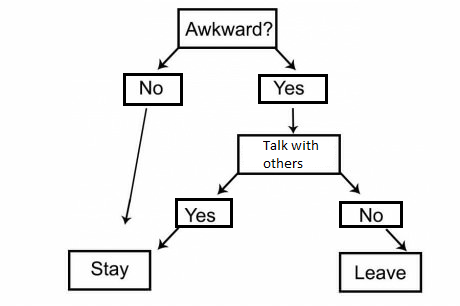arrow: (119, 107, 149, 226), (269, 47, 298, 74), (334, 170, 362, 197), (155, 47, 181, 76), (155, 225, 184, 251), (382, 226, 408, 255), (215, 173, 238, 198), (286, 103, 298, 133)
process: (174, 5, 280, 51), (235, 132, 343, 177), (65, 247, 153, 294), (337, 249, 424, 296), (255, 71, 330, 106), (121, 71, 185, 109), (171, 196, 235, 230), (337, 199, 405, 230)
text: (260, 138, 321, 170), (183, 19, 274, 39), (352, 263, 408, 282), (87, 259, 130, 280), (270, 78, 305, 98), (183, 205, 217, 224), (136, 78, 165, 97), (356, 205, 384, 224)
